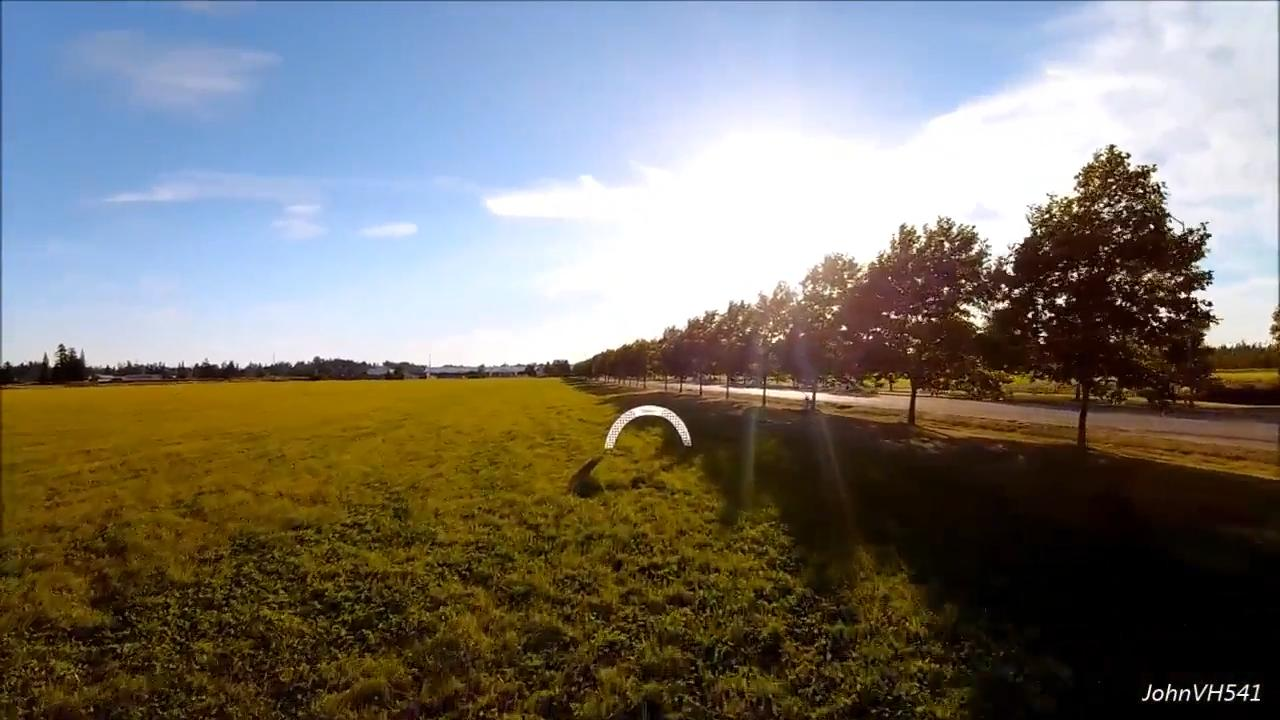gate: (604, 401, 694, 450)
